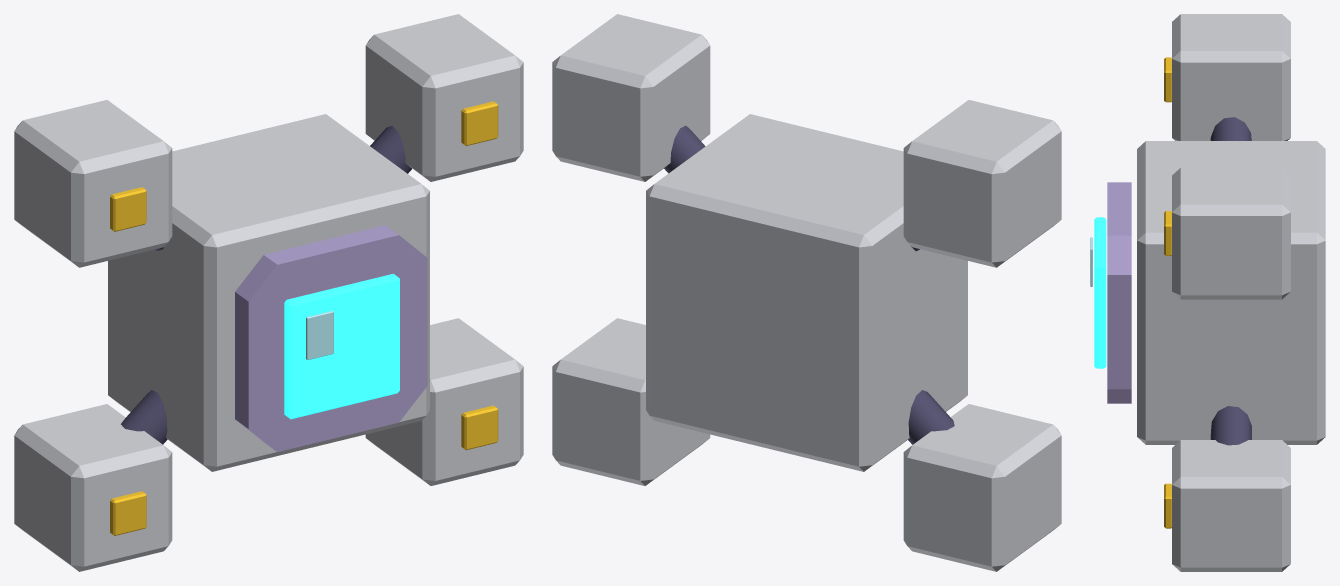
Rendered from Future_Drone_v002.fbx.
3 views of the same model, side by side, from view 1: azimuth 30°, elevation 25°; view 2: azimuth 150°, elevation 25°; view 3: azimuth 270°, elevation 25° (orthographic). The views are drawn at different scales.
Parts seen in each view (by area): view 1: Future_Drone__RECEIVER_MESH; view 2: Future_Drone__RECEIVER_MESH; view 3: Future_Drone__RECEIVER_MESH.
Boxes of the visible parts, x1,y1,x2,y2 form: Future_Drone__RECEIVER_MESH: (14,14,523,571); Future_Drone__RECEIVER_MESH: (552,14,1061,571); Future_Drone__RECEIVER_MESH: (1090,14,1325,571).
Bounding box in the file's own units: 1.34 × 1.16 × 0.674.
